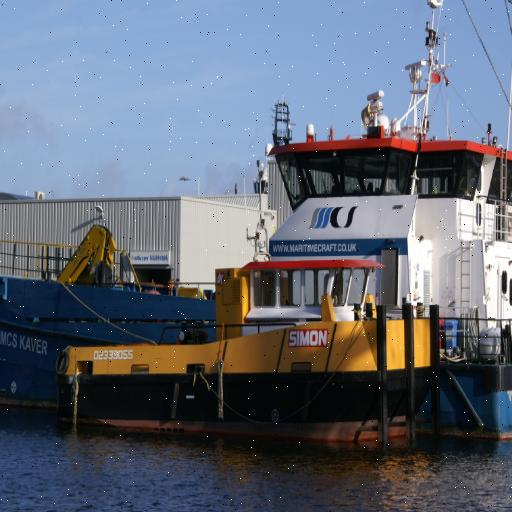tugboat: (60, 240, 445, 457)
